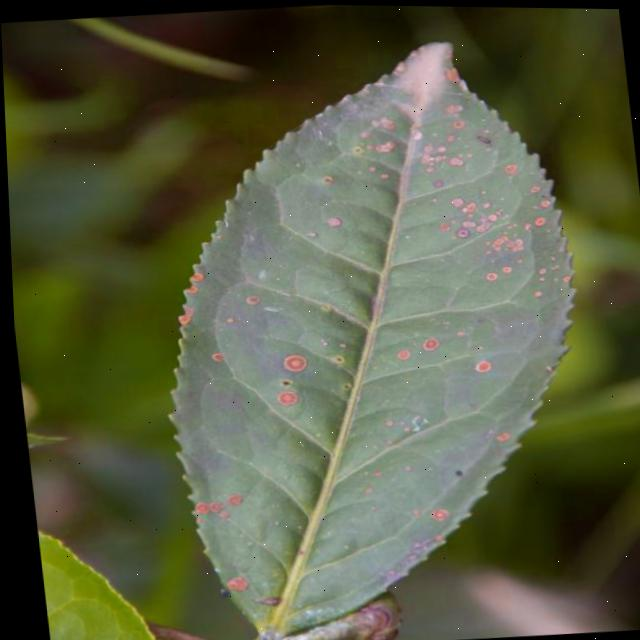Tea algae leaf spot: (135, 47, 596, 601)
